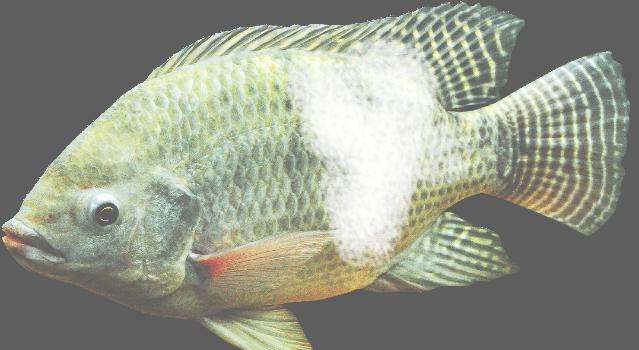Fungal Disease -Saprolegniasis-: (2, 2, 631, 350)
